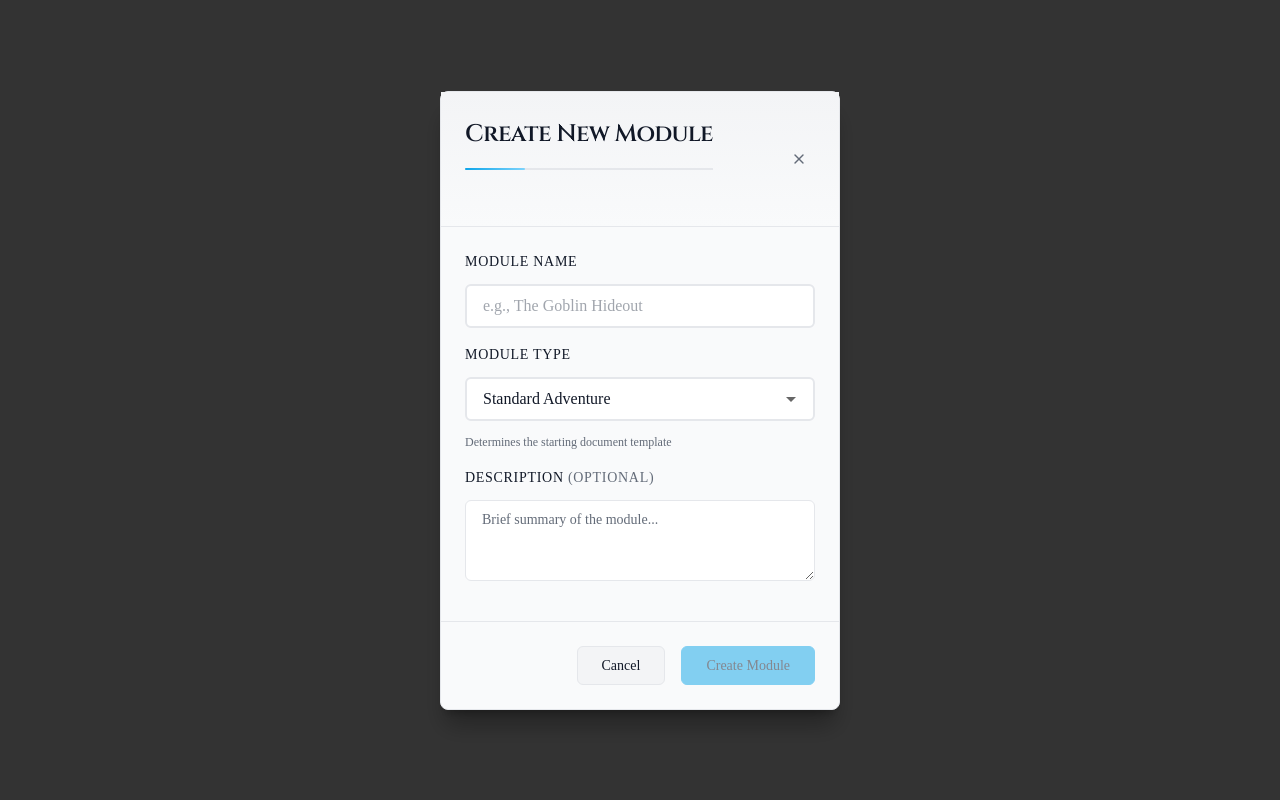
Test case: CreateModuleModal › validation › enables Create Module button when name is filled
Type "My Module" into the field with id "module-name" at (640, 306), box [465,284,815,328]
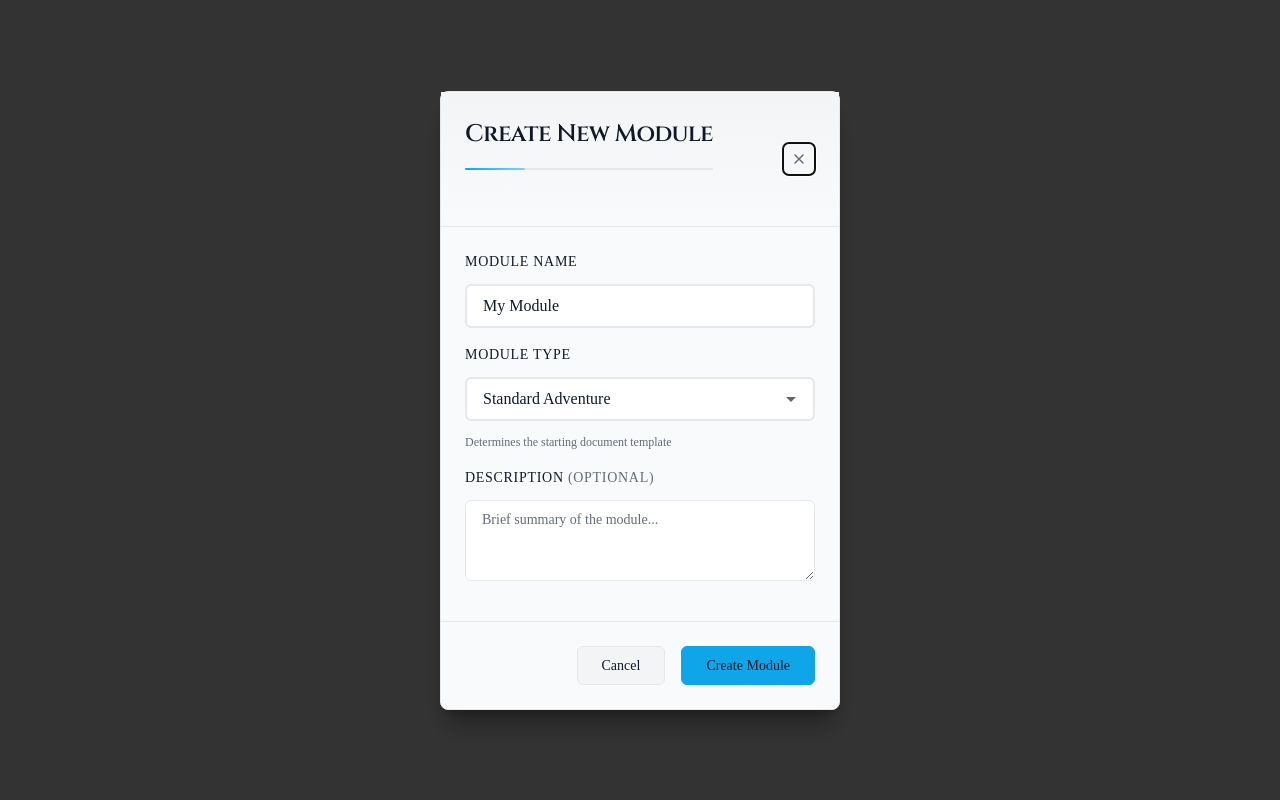
Result: the button "Create Module" is enabled at [681,646,815,684]
